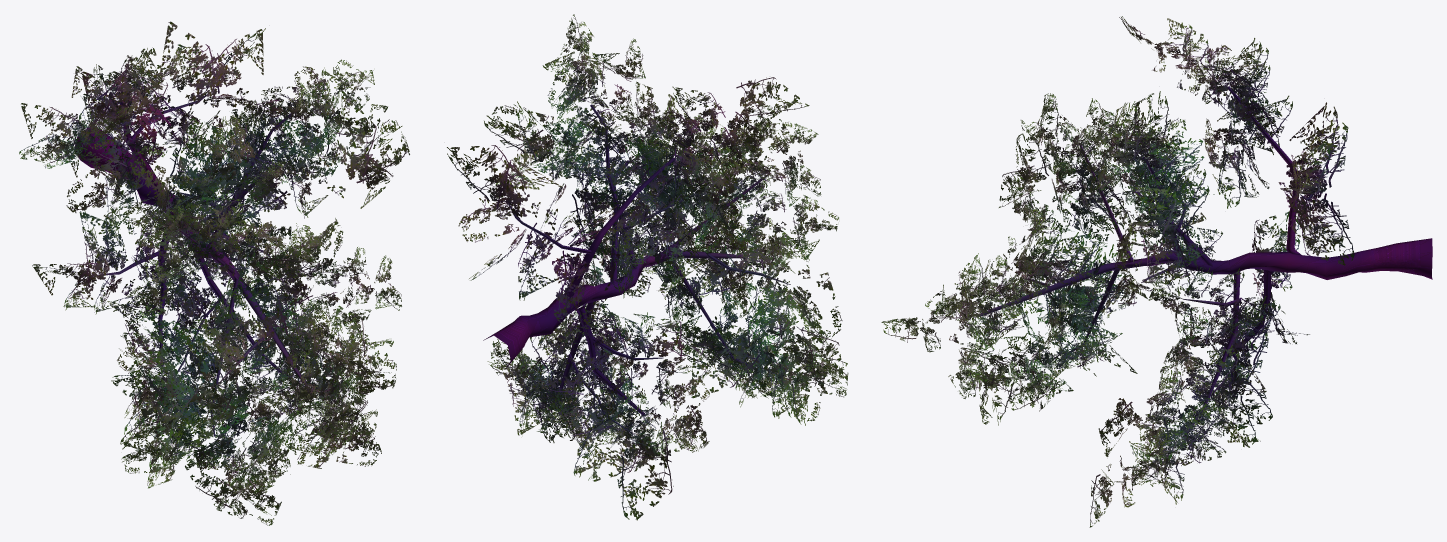
The model's file is oak_big_oak_tree_002_lod2.glb.
3 views of the same model, side by side, from view 1: azimuth 30°, elevation 25°; view 2: azimuth 150°, elevation 25°; view 3: azimuth 270°, elevation 25° (orthographic). The views are drawn at different scales.
Visible parts, largest first — view 1: Big_oak_tree__002_LOD2; view 2: Big_oak_tree__002_LOD2; view 3: Big_oak_tree__002_LOD2.
Part boxes in pixels (x1=…): Big_oak_tree__002_LOD2: x1=19, y1=21, x2=409, y2=525; Big_oak_tree__002_LOD2: x1=447, y1=14, x2=848, y2=520; Big_oak_tree__002_LOD2: x1=881, y1=16, x2=1432, y2=527.
Size of the model in its own units: 13.65 by 17.29 by 20.29.
2 materials, 2 textured.
